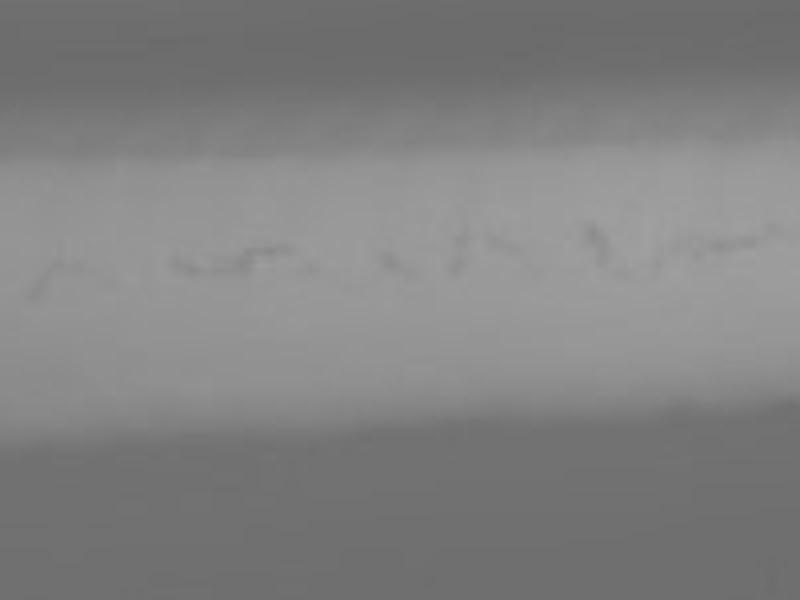defect: (172, 253, 223, 278), (582, 222, 607, 263), (485, 230, 516, 252), (441, 251, 467, 276), (249, 242, 289, 258), (696, 241, 740, 255), (229, 254, 252, 280), (396, 268, 419, 288), (377, 247, 401, 266), (610, 266, 634, 285), (27, 277, 46, 300), (298, 258, 322, 276), (738, 231, 757, 249), (454, 226, 470, 247), (760, 217, 777, 234)
